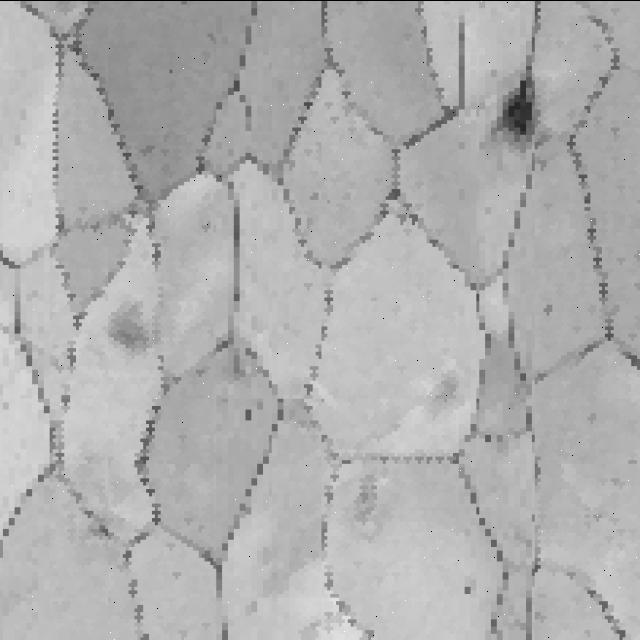good_void: (480, 75, 548, 157), (103, 286, 155, 361), (544, 297, 557, 320), (481, 427, 499, 442), (242, 403, 255, 422), (458, 581, 475, 595)
